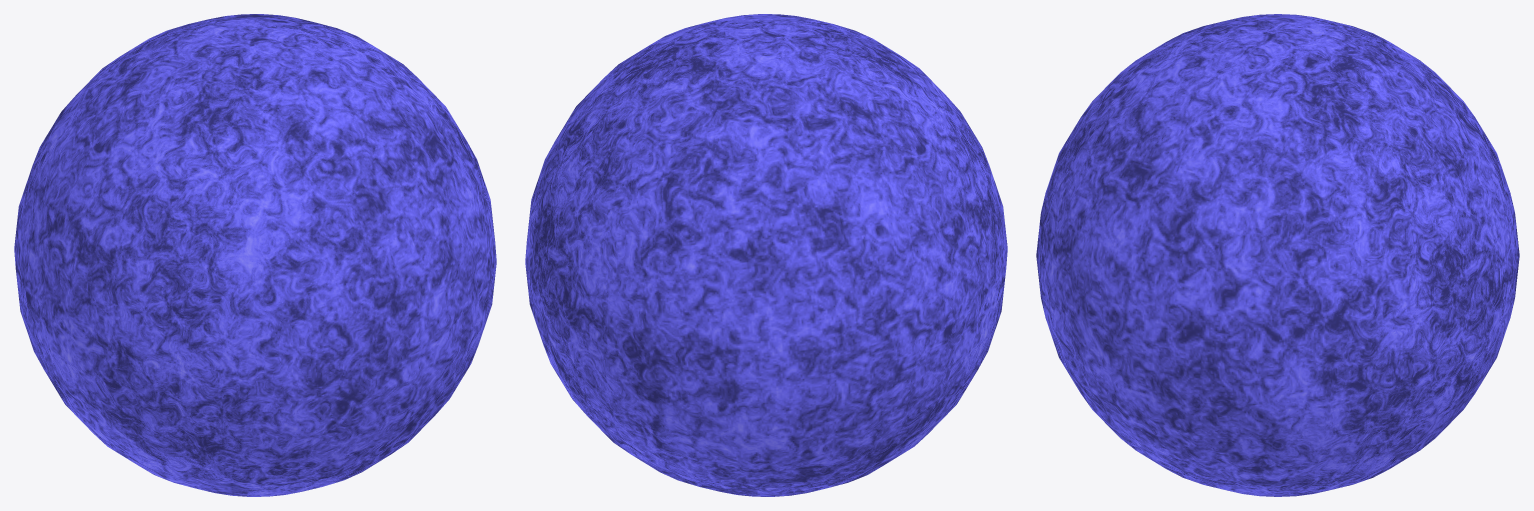
File: star.glb
3 renders of one model, left to right at view 1: azimuth 30°, elevation 25°; view 2: azimuth 150°, elevation 25°; view 3: azimuth 270°, elevation 25°, orthographic.
Parts seen in each view (by area): view 1: ClassO; view 2: ClassO; view 3: ClassO.
Boxes of the visible parts, <box> form: ClassO: <box>14,14,496,496</box>; ClassO: <box>525,14,1007,496</box>; ClassO: <box>1036,14,1519,496</box>.
Size of the model in its own units: 2 by 2 by 2.
1 material, 1 textured.
